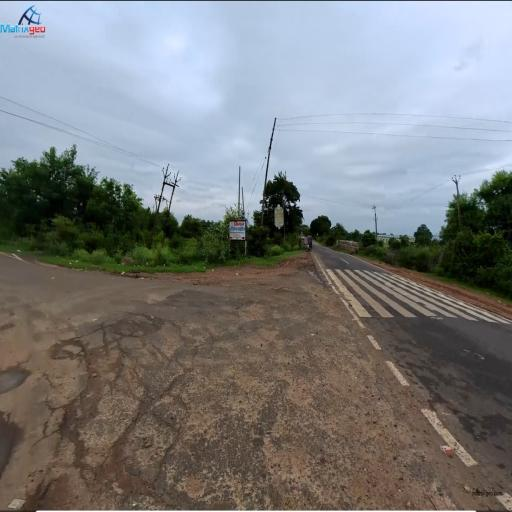alligator_crack: (85, 330, 210, 452)
